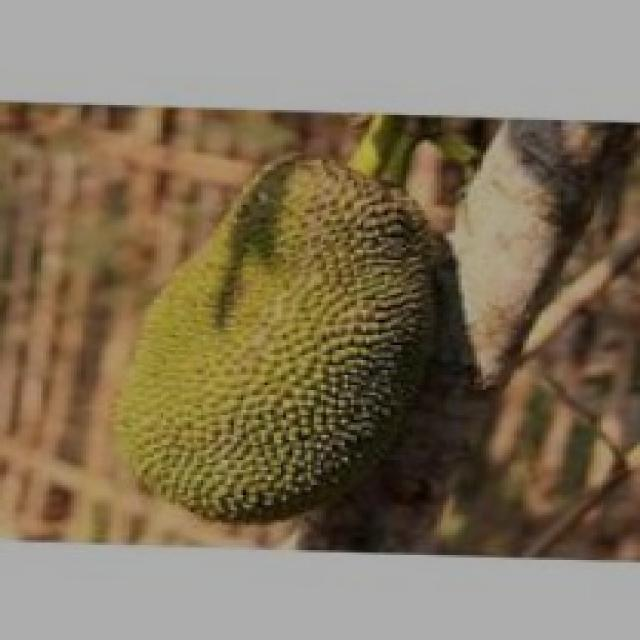Fruit: (77, 132, 480, 540)
